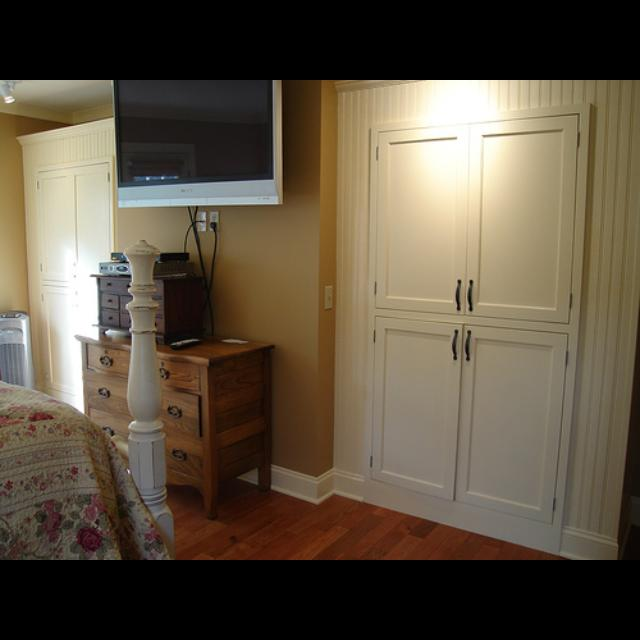Flat-Panel-TV: (114, 82, 283, 205)
TV-Remote-Control: (170, 338, 203, 350)
